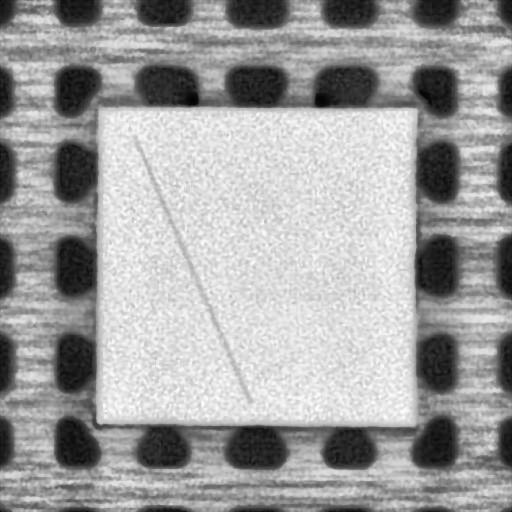DIE_CRACK: (128, 134, 246, 400)
